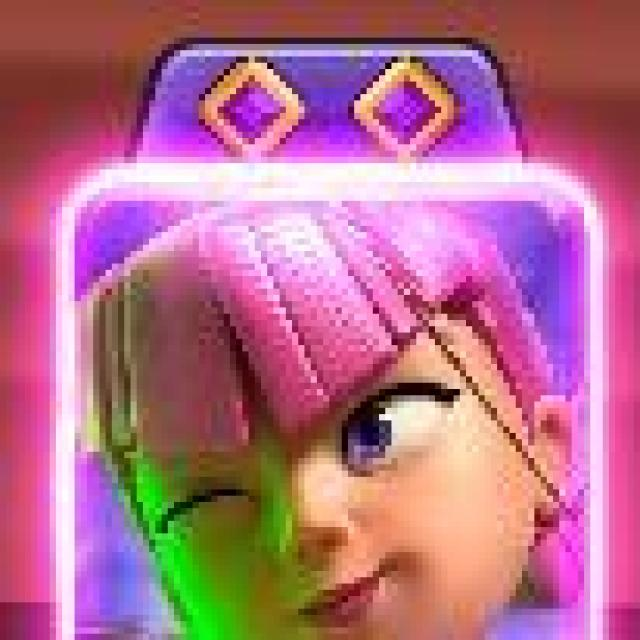Evolved_Archers: (39, 148, 611, 640)
